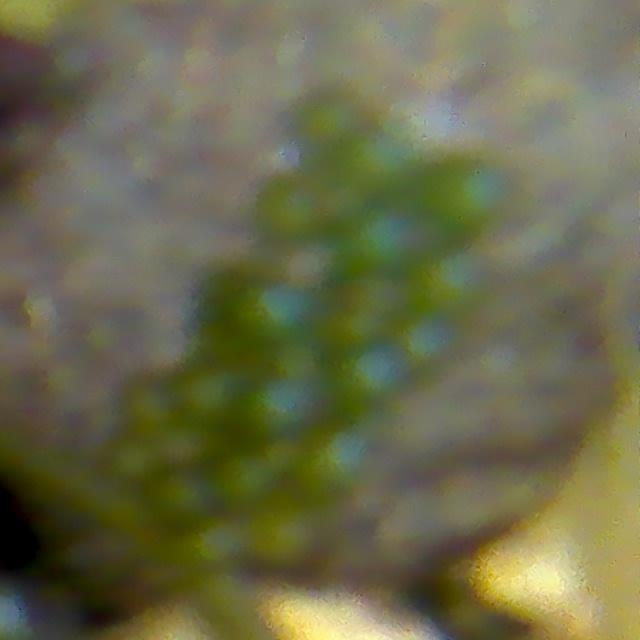SeaGrape: (250, 165, 327, 255), (420, 155, 510, 228), (389, 90, 470, 166), (290, 81, 363, 164), (209, 445, 279, 522), (408, 248, 482, 319), (343, 127, 416, 197), (307, 424, 370, 504), (238, 378, 311, 446), (241, 287, 313, 352), (183, 355, 247, 422), (340, 205, 407, 268), (334, 344, 399, 404), (397, 308, 450, 381), (117, 371, 184, 428), (157, 472, 214, 535), (110, 435, 157, 488), (323, 298, 370, 335)
